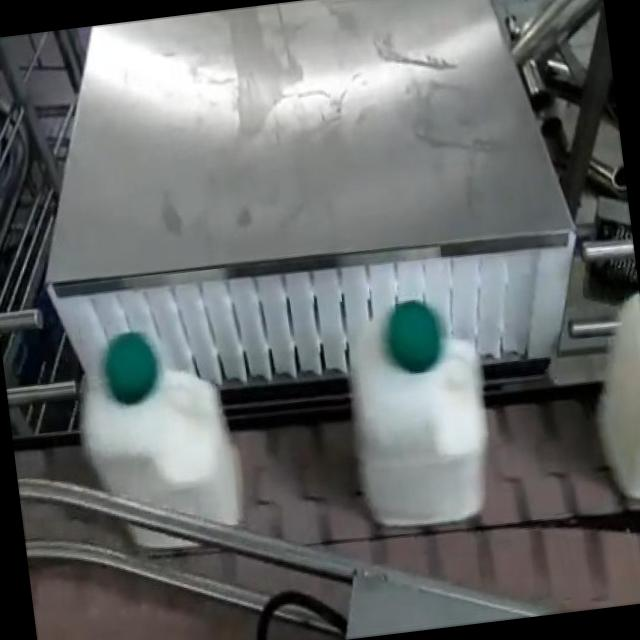milk: (45, 308, 272, 586), (324, 280, 511, 564)
